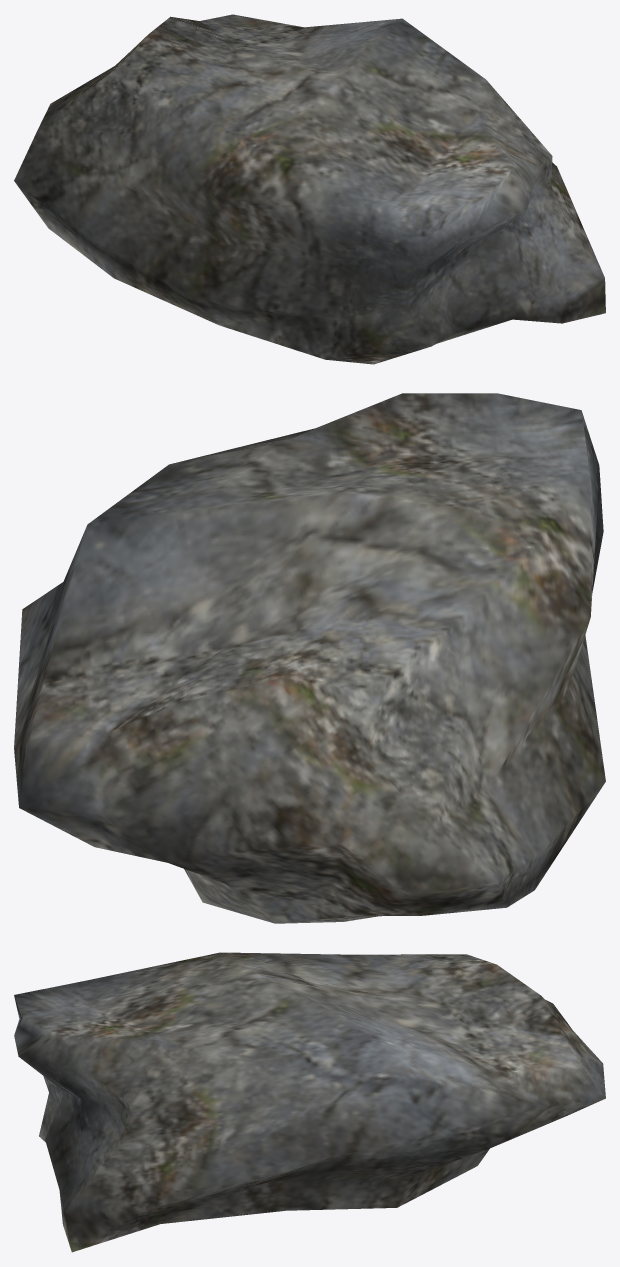
Rendered from Boulder_06.FBX.
3 views of the same model, one above another, from view 1: azimuth 30°, elevation 25°; view 2: azimuth 150°, elevation 25°; view 3: azimuth 270°, elevation 25° (orthographic). The views are drawn at different scales.
Parts seen in each view (by area): view 1: Boulder_06; view 2: Boulder_06; view 3: Boulder_06.
Boxes of the visible parts, box(x1,y1,x2,y2) form: Boulder_06: box(14, 14, 605, 364); Boulder_06: box(14, 393, 605, 923); Boulder_06: box(14, 952, 605, 1252).
Bounding box in the file's own units: 46.78 × 24.93 × 61.89.
